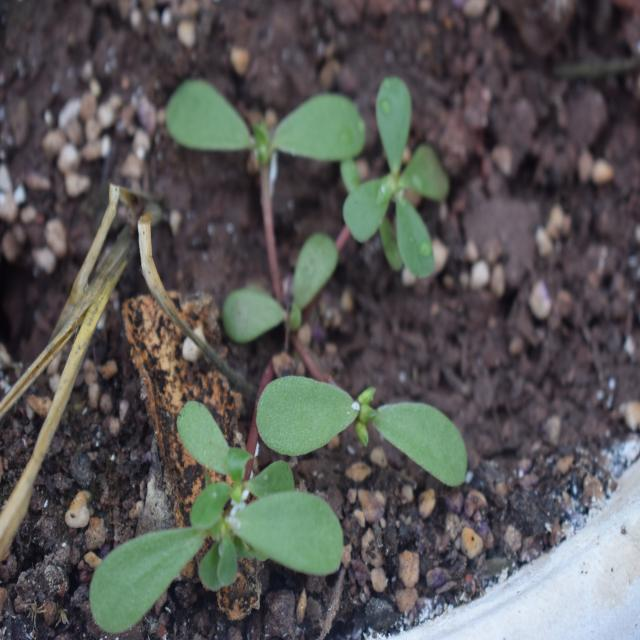purslane: (118, 67, 502, 623)
